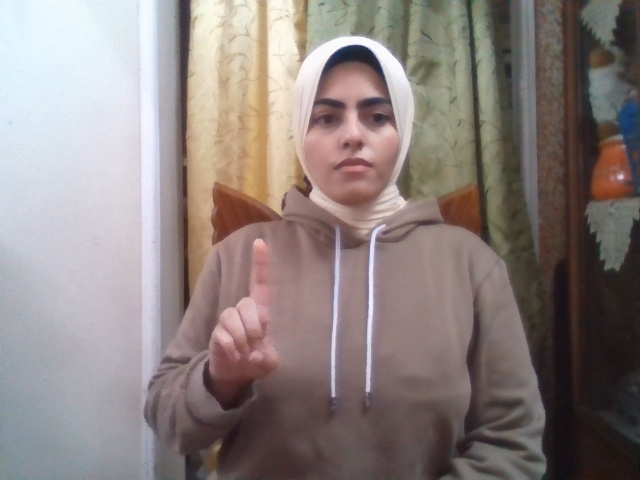D: (208, 239, 280, 383)
